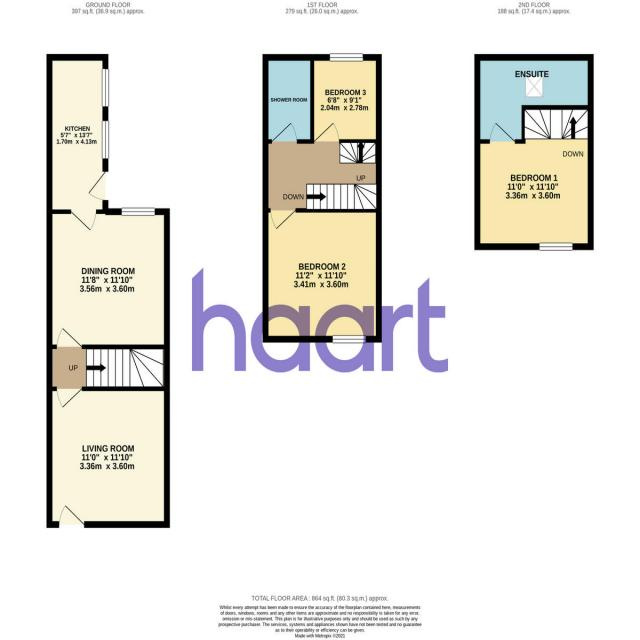DOOR: (268, 207, 301, 233), (57, 503, 90, 528), (267, 120, 300, 145), (66, 209, 99, 233), (310, 119, 341, 143), (88, 167, 109, 202), (55, 326, 85, 348), (56, 387, 85, 409)
ROOM: (46, 386, 171, 530), (46, 208, 170, 349), (263, 208, 382, 343), (474, 119, 594, 251), (47, 53, 109, 235), (309, 54, 382, 143)
WINDOW: (330, 330, 370, 348), (488, 119, 516, 144), (534, 241, 578, 253), (329, 52, 364, 63), (101, 66, 110, 108), (101, 120, 110, 161), (121, 207, 156, 217)
